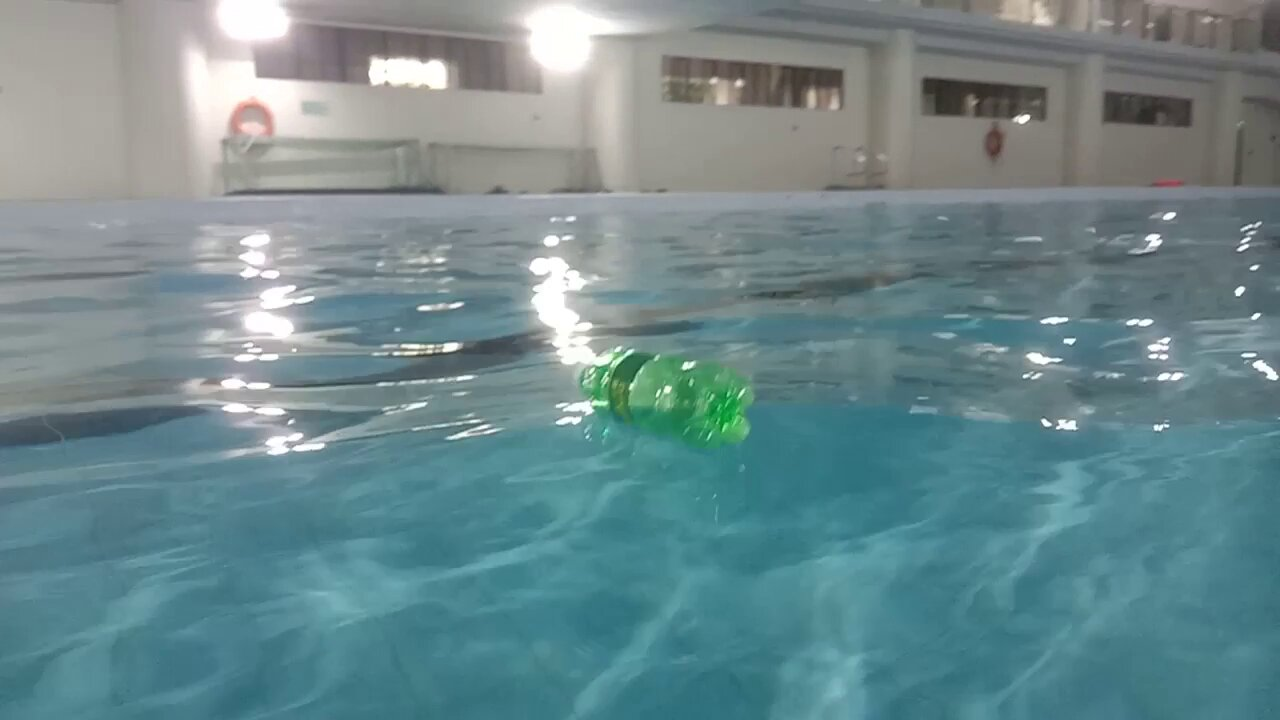plastic_bottle: (580, 348, 756, 446)
